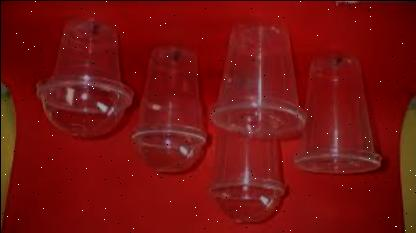Others: (36, 20, 132, 138), (294, 50, 382, 174), (211, 24, 303, 136), (132, 47, 208, 172)
